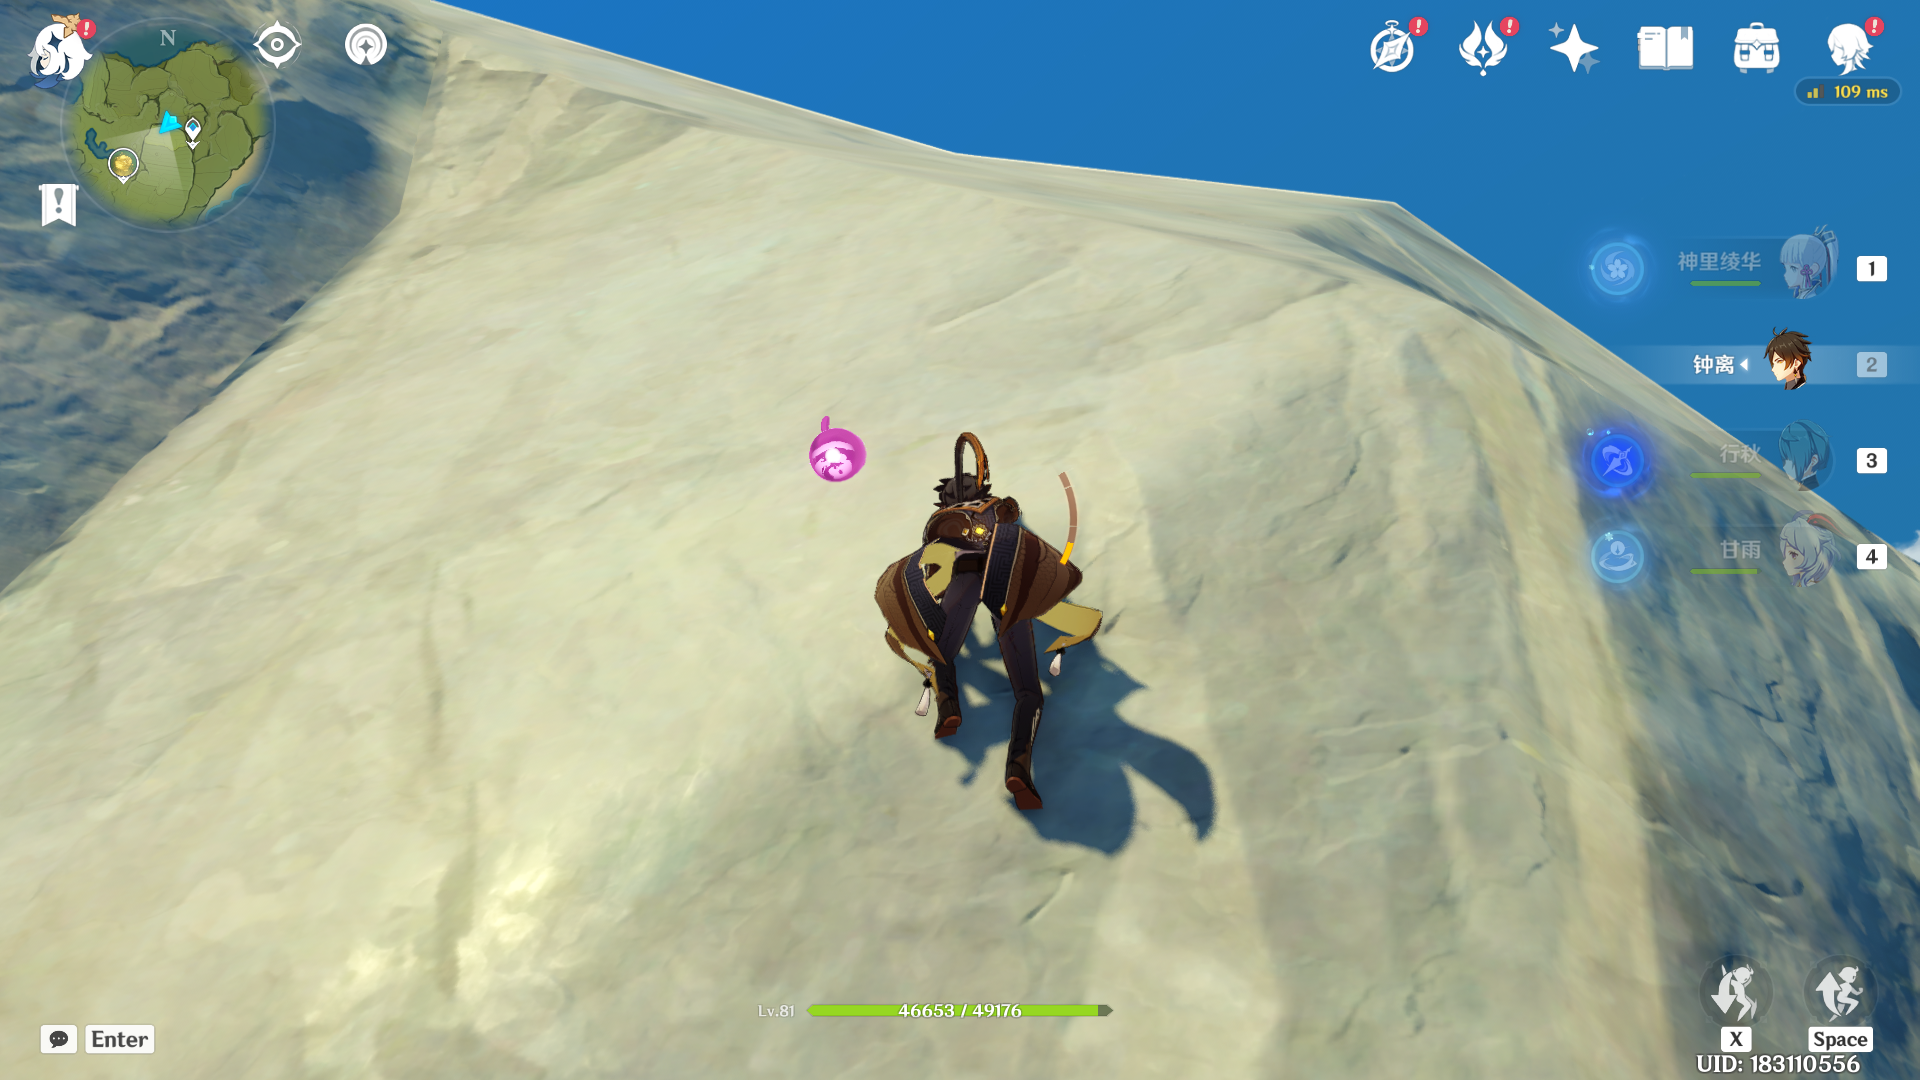character: (833, 396, 1153, 856)
